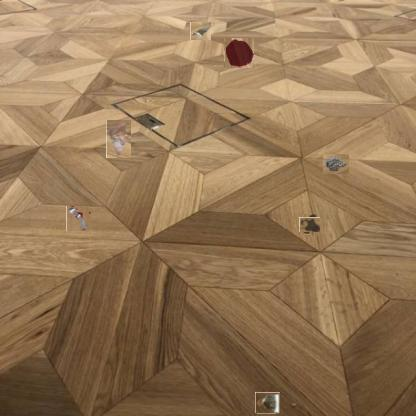dirty: (106, 120, 131, 158), (65, 206, 90, 231), (256, 391, 279, 414), (323, 154, 349, 174), (190, 22, 211, 40)
liquid: (224, 38, 254, 68), (301, 215, 318, 234)
